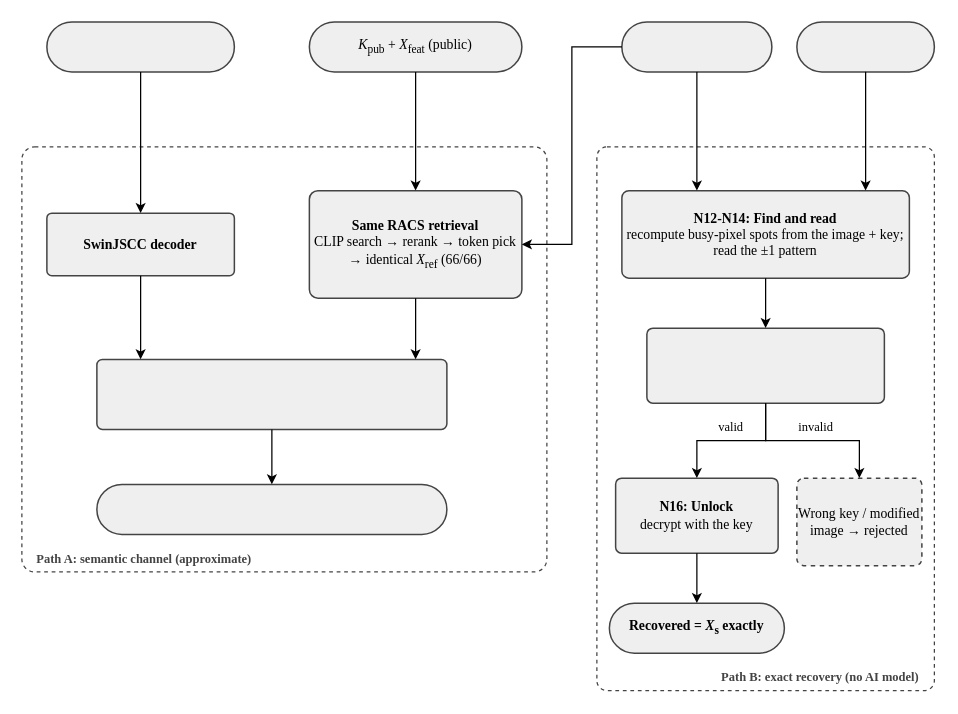
This 958x714 diagram has some shape labels left out. Here are the shapes that lost their labels. From the top down, the centre of each, then its label:
At pixel 140 46: "Received signal (Path A)".
At pixel 696 46: "Private token τ".
At pixel 865 46: "Stego PNG file (Path B)".
At pixel 765 365: "N15: Check the seal HMAC with the key".
At pixel 271 393: "EDICT recovery + CodeFormer (baseline)".
At pixel 271 508: "Recovered ≈ X s (about 22.6 dB)".
